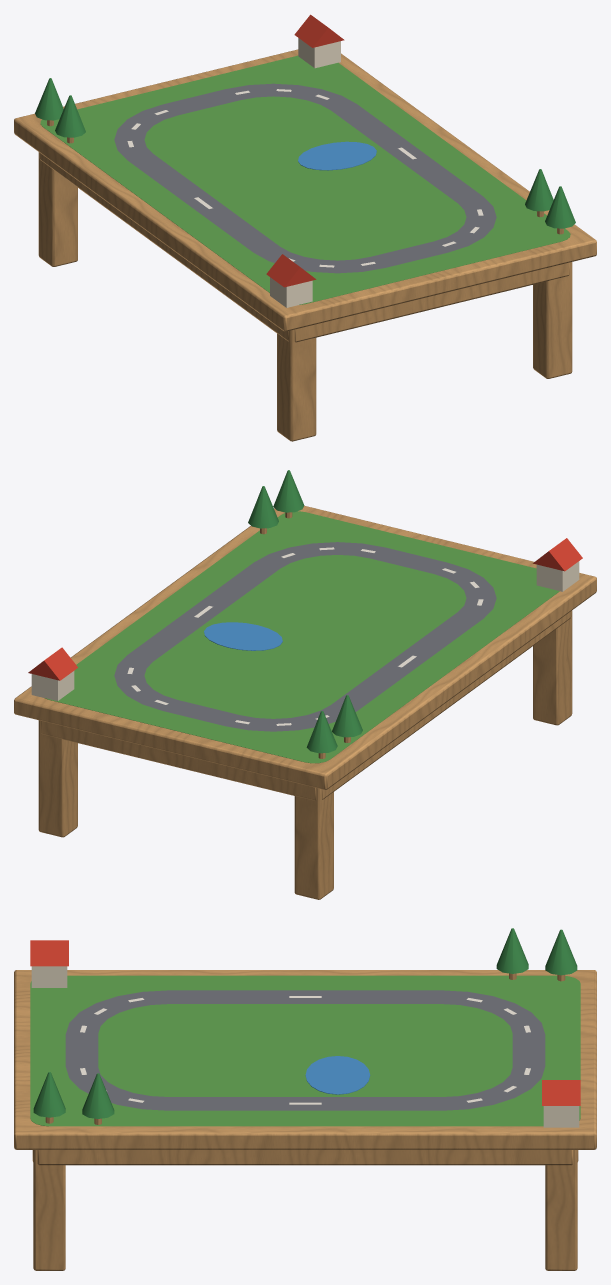
The model's file is play_table.glb.
3 views of the same model, one above another, from view 1: azimuth 30°, elevation 25°; view 2: azimuth 150°, elevation 25°; view 3: azimuth 270°, elevation 25° (orthographic). The views are drawn at different scales.
Parts seen in each view (by area): view 1: play_table; view 2: play_table; view 3: play_table.
Boxes of the visible parts, x1,y1,x2,y2 form: play_table: (14,14,596,441); play_table: (14,470,596,899); play_table: (14,928,596,1270).
Bounding box in the file's own units: 6 × 3.35 × 9.
8 materials, 1 textured.
